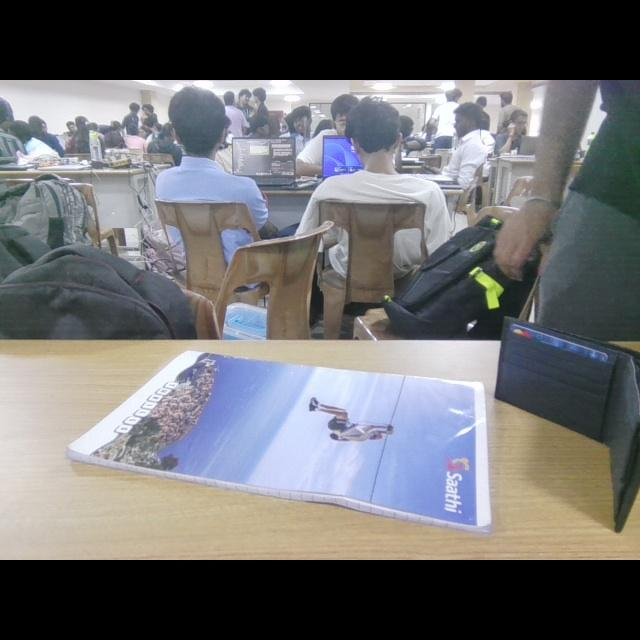wallet: (492, 308, 640, 514)
